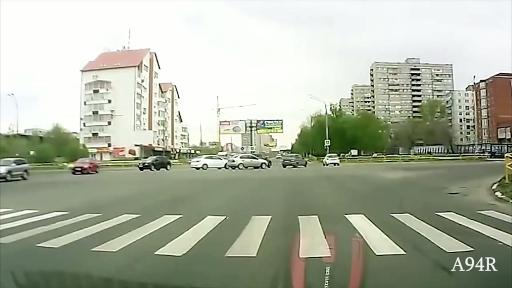CAR: (0, 155, 30, 185), (229, 152, 269, 174), (189, 151, 225, 174), (140, 154, 175, 175), (71, 155, 100, 178), (282, 153, 310, 170), (325, 152, 341, 168)
